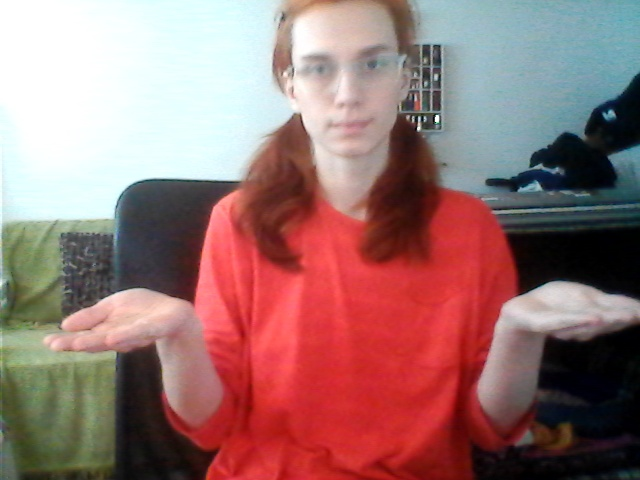alebo: (45, 281, 640, 384)
